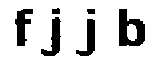b: (113, 4, 151, 53)
f: (8, 4, 38, 49)
j: (73, 7, 105, 60), (37, 6, 66, 57)
